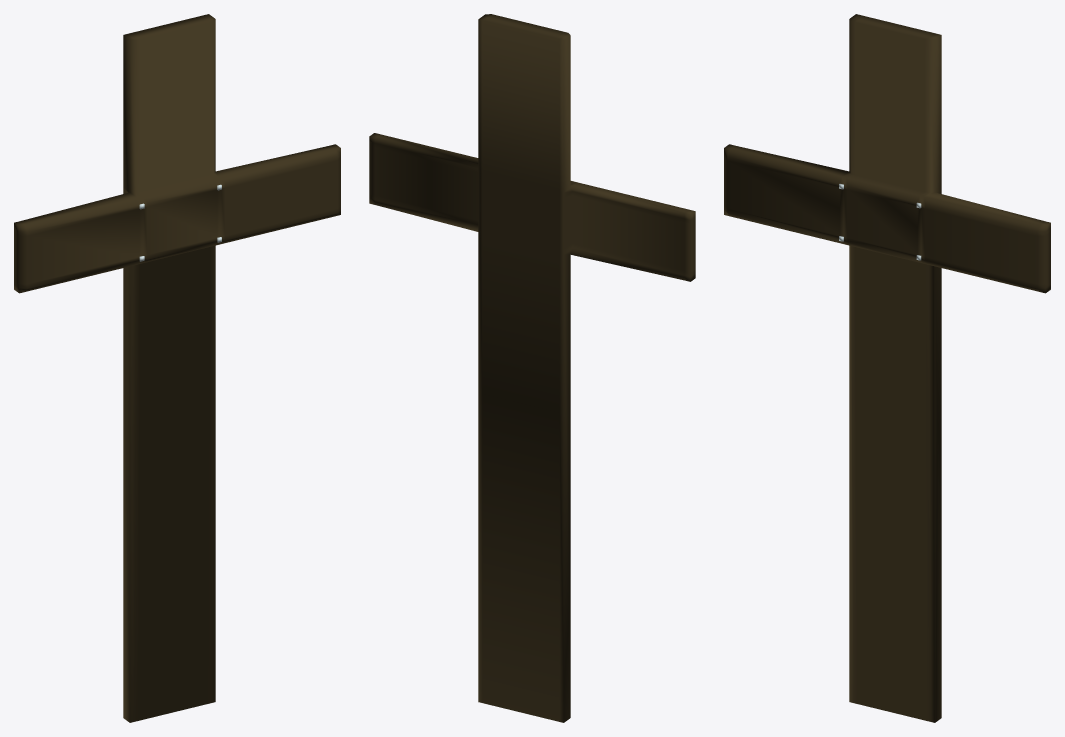
File: Cross.fbx
3 renders of one model, left to right at view 1: azimuth 30°, elevation 25°; view 2: azimuth 150°, elevation 25°; view 3: azimuth 330°, elevation 25°, orthographic.
Visible parts, largest first — view 1: Cross Alexander Veltman.001; view 2: Cross Alexander Veltman.001; view 3: Cross Alexander Veltman.001.
Part boxes in pixels (x1,y1,x2,y2): Cross Alexander Veltman.001: (14,14,340,722); Cross Alexander Veltman.001: (369,14,695,722); Cross Alexander Veltman.001: (724,14,1050,722).
Size of the model in its own units: 98.54 by 200 by 9.1.
